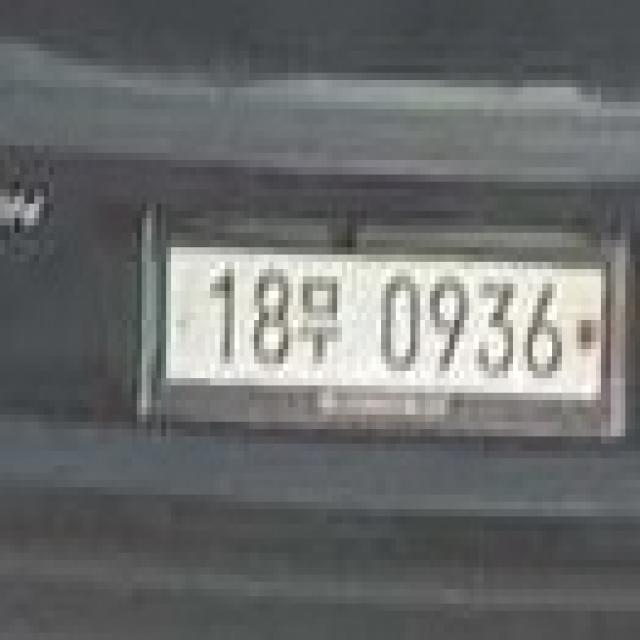0: (376, 262, 420, 378)
1: (206, 254, 240, 371)
3: (474, 269, 518, 393)
6: (522, 269, 566, 393)
8: (244, 262, 293, 378)
9: (425, 262, 469, 385)
license_plate: (142, 204, 625, 436)
mu: (298, 254, 342, 371)
